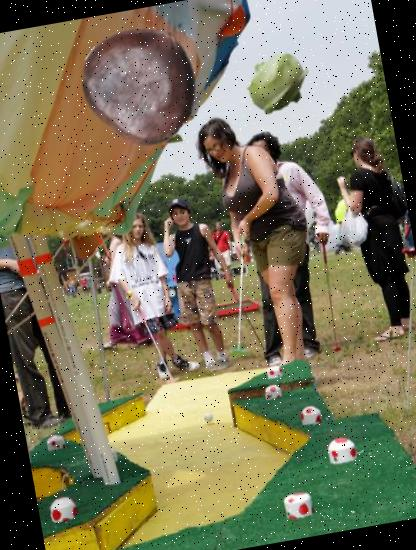Chestnut: (73, 12, 211, 150)
Kohlrabi: (240, 45, 314, 120)
